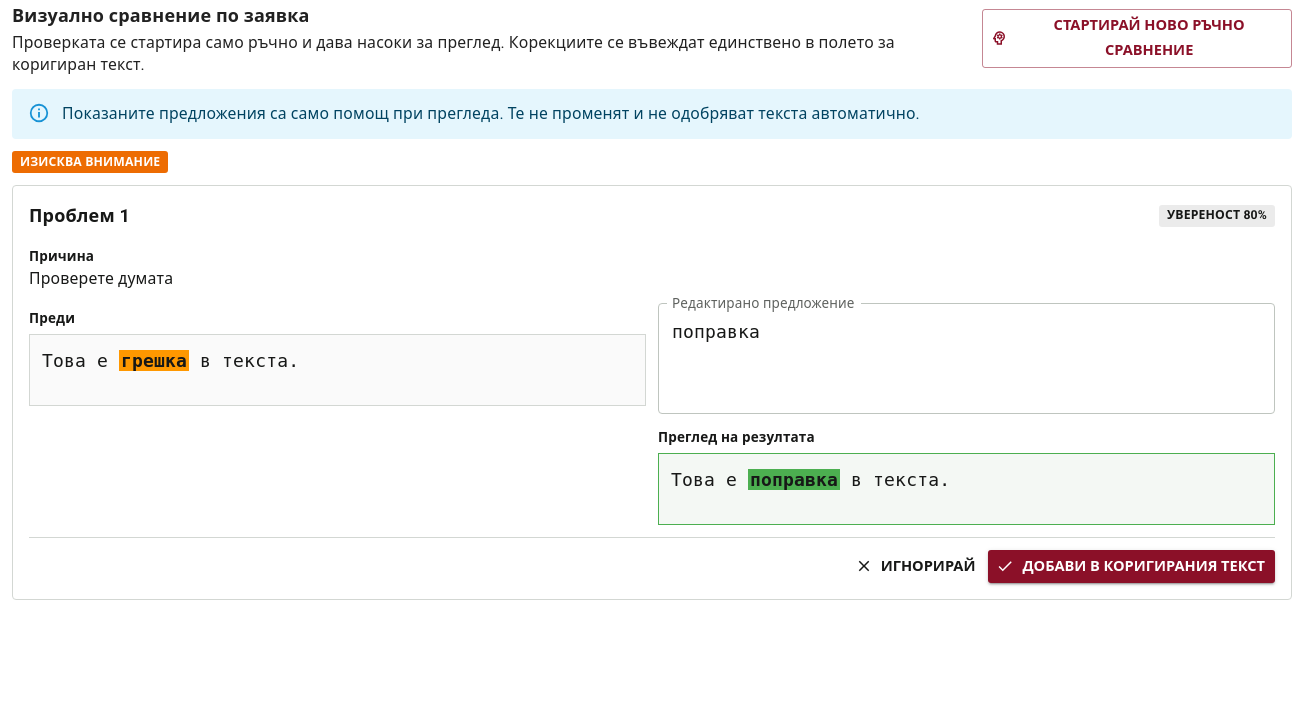
it: VisionAssessmentPanel › allows a reviewer to adjust a proposed replacement before adding it to the draft
Replace the text in the text box labelled "Редактирано предложение" with "корекция": (966, 358) [672, 319, 1261, 397]
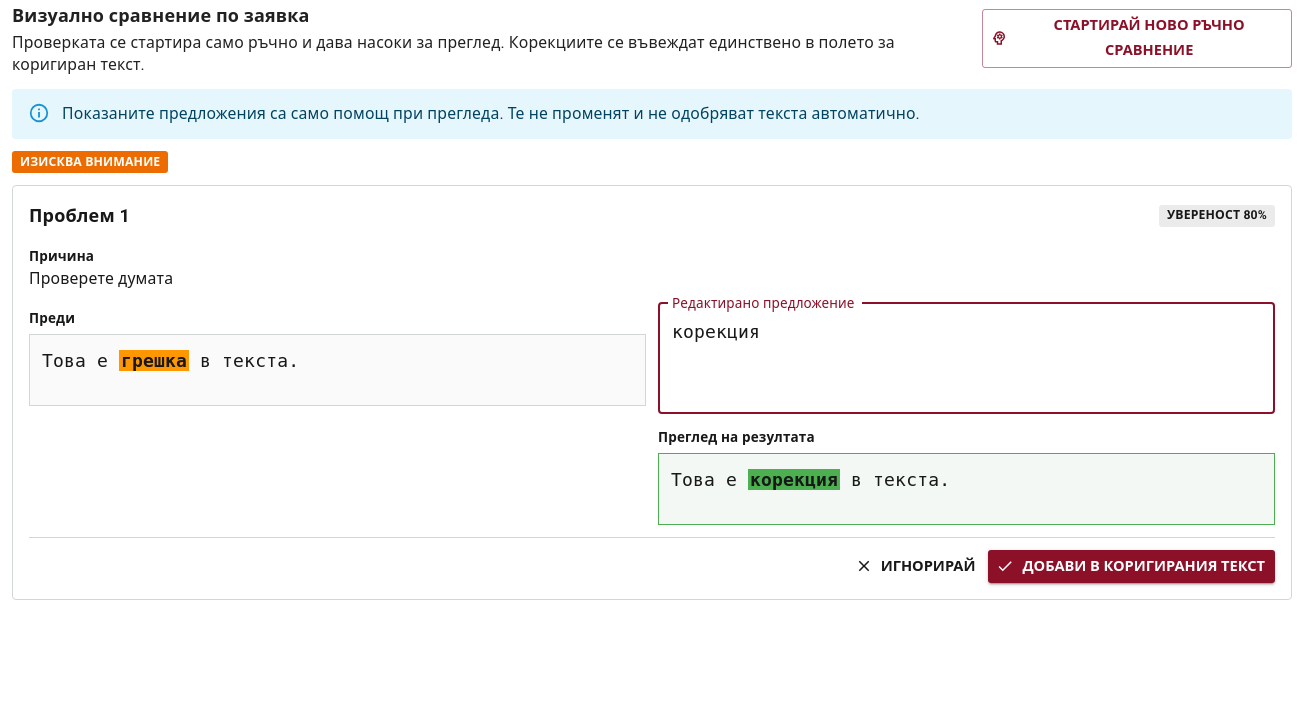
Click the button "Добави в коригирания текст": (1132, 566) [988, 550, 1275, 583]
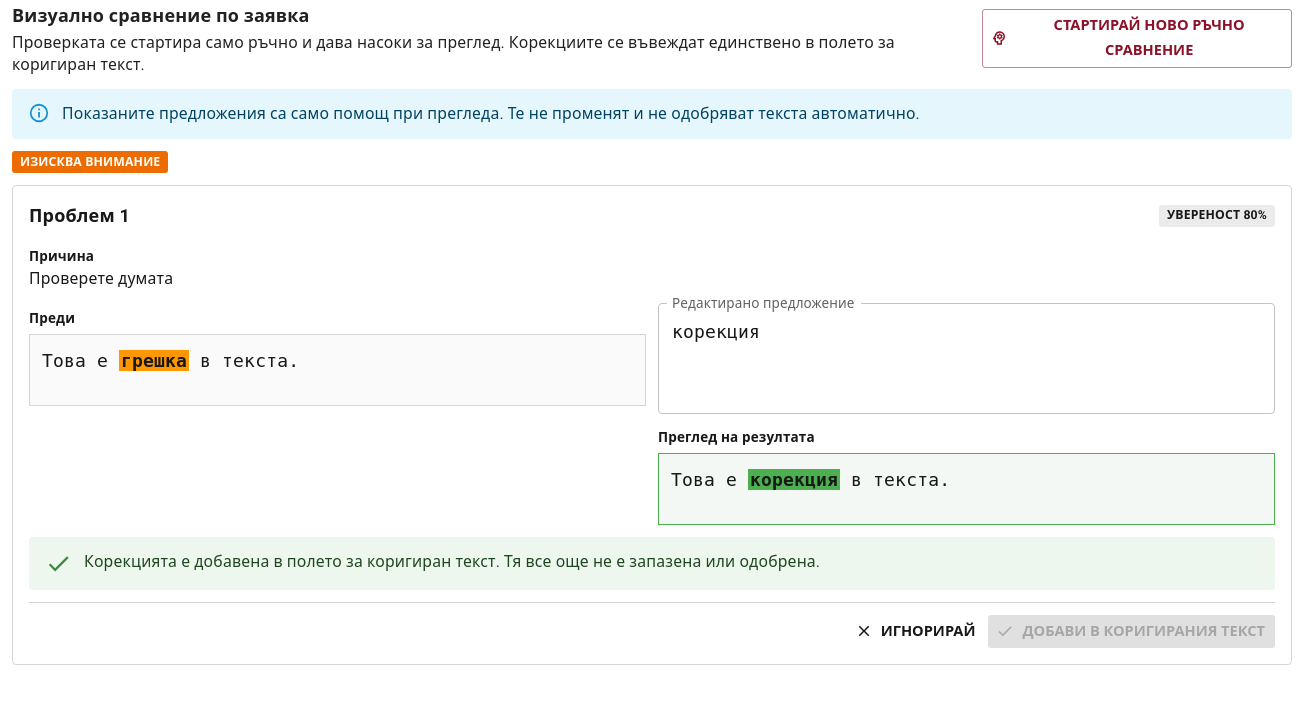
expect the text "Корекцията е добавена в полето за коригиран текст. Тя все още не е запазена или одобрена." is shown: met, box [84, 552, 820, 571]
